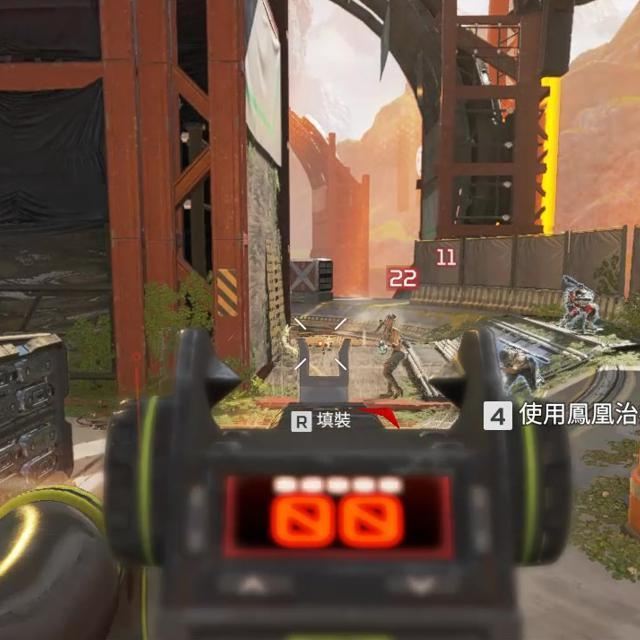avatar: (373, 312, 409, 398)
